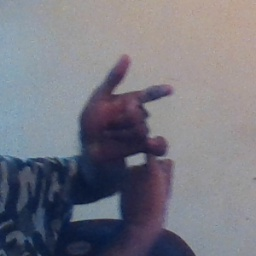S: (70, 53, 185, 211)
